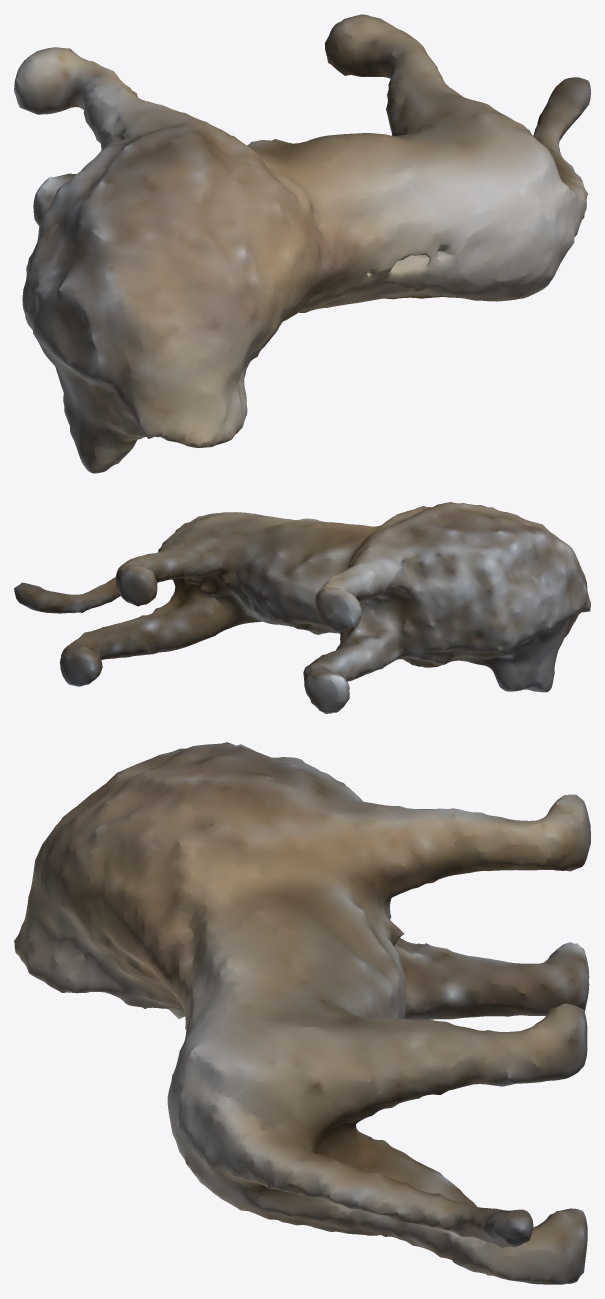
The model's file is lion.glb.
3 views of the same model, one above another, from view 1: azimuth 30°, elevation 25°; view 2: azimuth 150°, elevation 25°; view 3: azimuth 270°, elevation 25° (orthographic). The views are drawn at different scales.
Bounding box in the file's own units: 0.9944 × 0.3728 × 0.6559.
